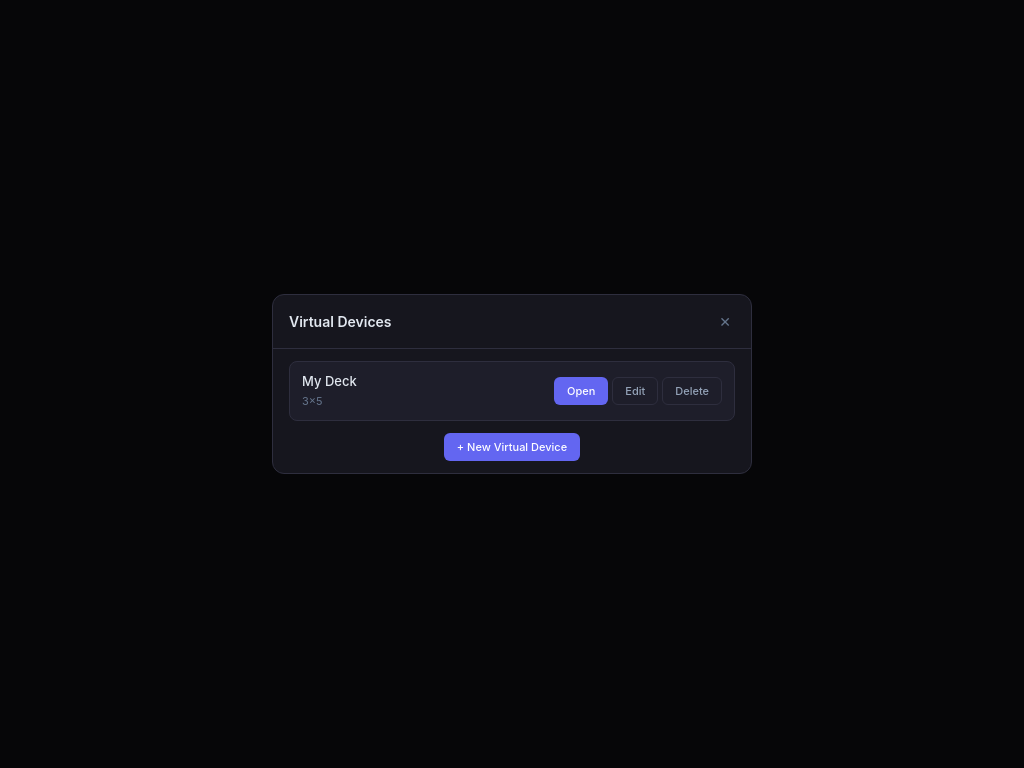
Test: VirtualDevicePanel › delete confirmation › should show Confirm and Cancel on delete click
Step 1. Click the button "Delete" → (692, 391), box left=662, top=376, right=722, bottom=405
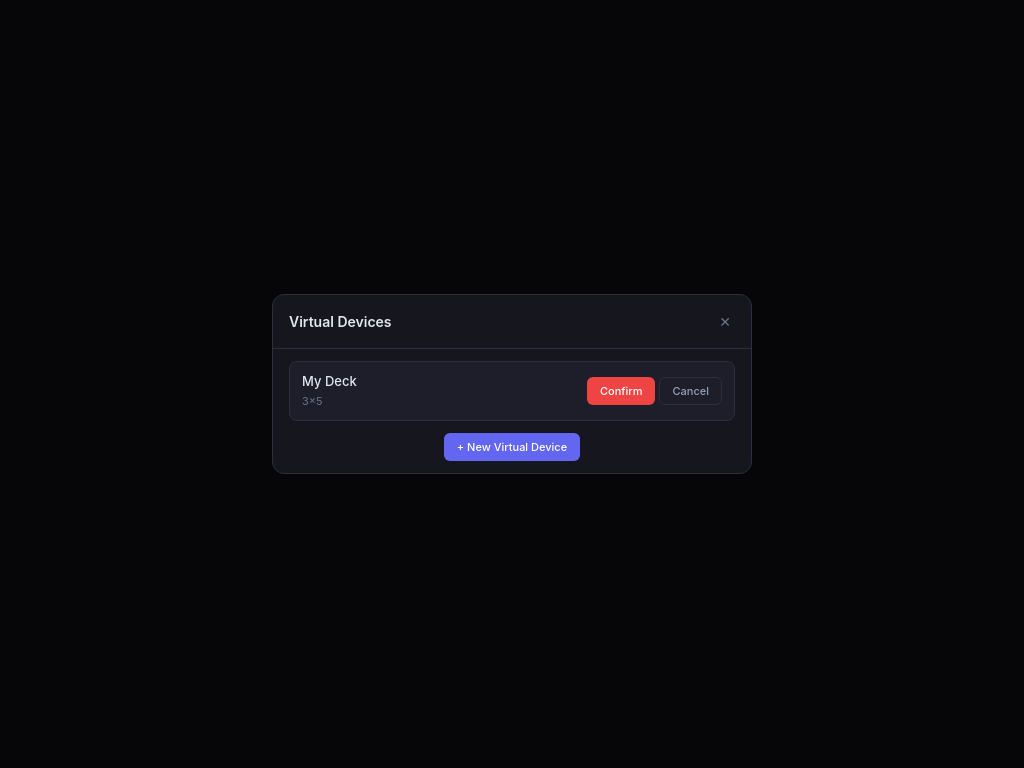
Check: the button "Confirm" is shown, box left=587, top=376, right=656, bottom=405
Check: the button "Cancel" is shown, box left=660, top=376, right=722, bottom=405
